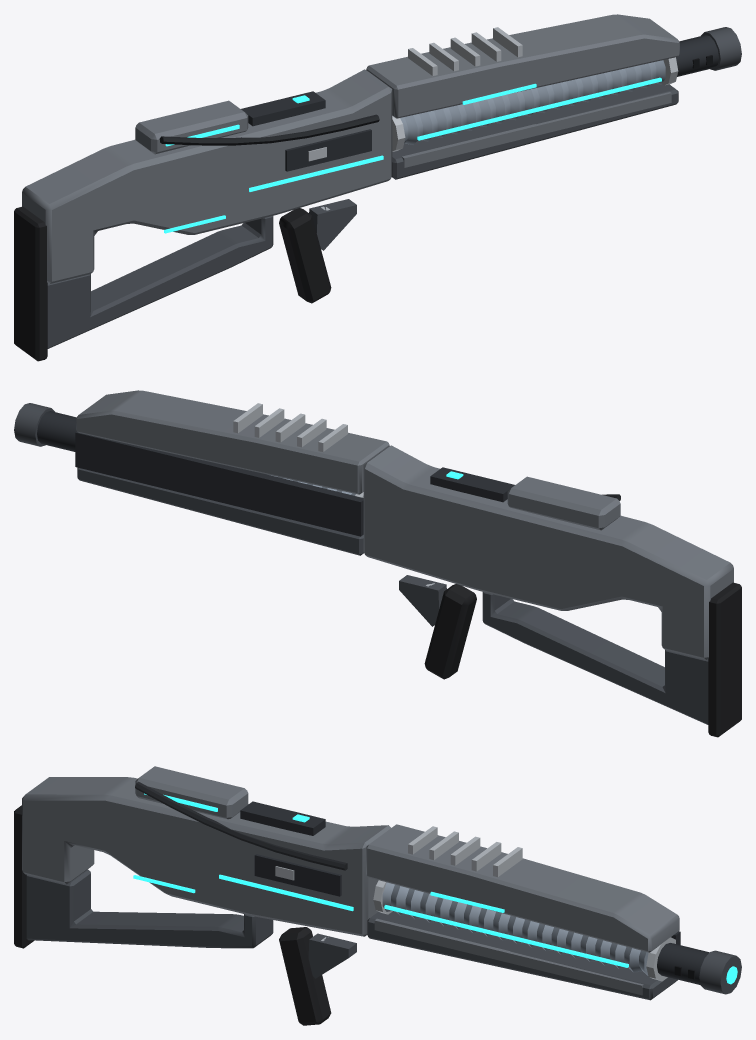
File: opr_wpn_kinetic_accelerator_c.glb
3 views of the same model, one above another, from view 1: azimuth 30°, elevation 25°; view 2: azimuth 150°, elevation 25°; view 3: azimuth 330°, elevation 25° (orthographic).
Parts seen in each view (by area): view 1: mesh_intact; view 2: mesh_intact; view 3: mesh_intact.
Part boxes in pixels (x1,y1,x2,y2): mesh_intact: (14,14,741,361); mesh_intact: (14,390,741,737); mesh_intact: (14,766,741,1025).
Size of the model in its own units: 0.9902 by 0.2872 by 0.0805.
